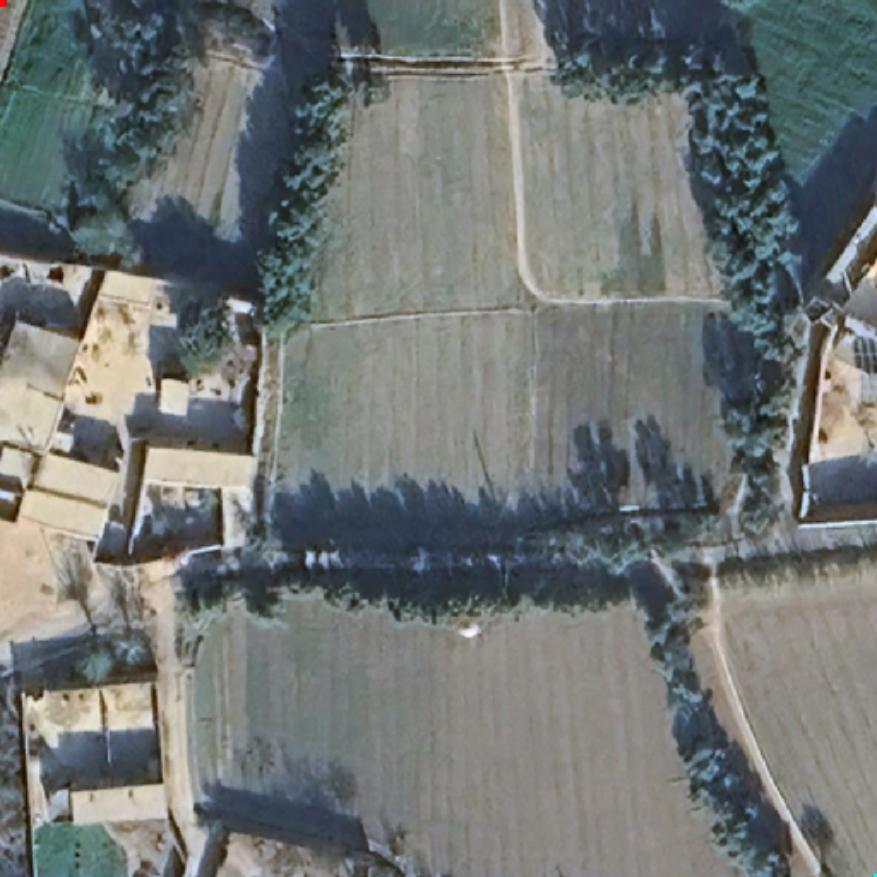Solarpanel: (852, 333, 877, 376)
